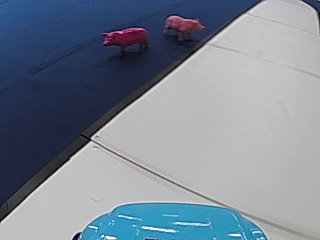pig: (100, 23, 149, 57), (161, 11, 206, 43)
